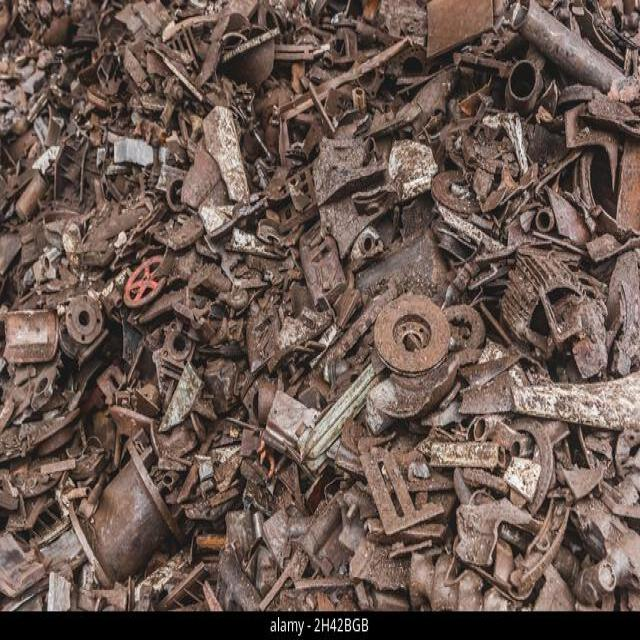metal: (9, 17, 628, 563)
